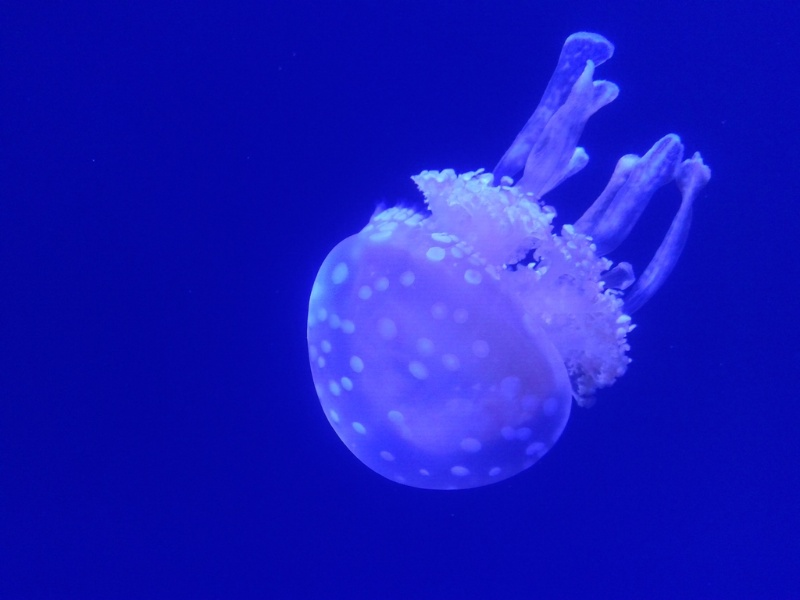Jellyfish: (301, 58, 698, 493)
